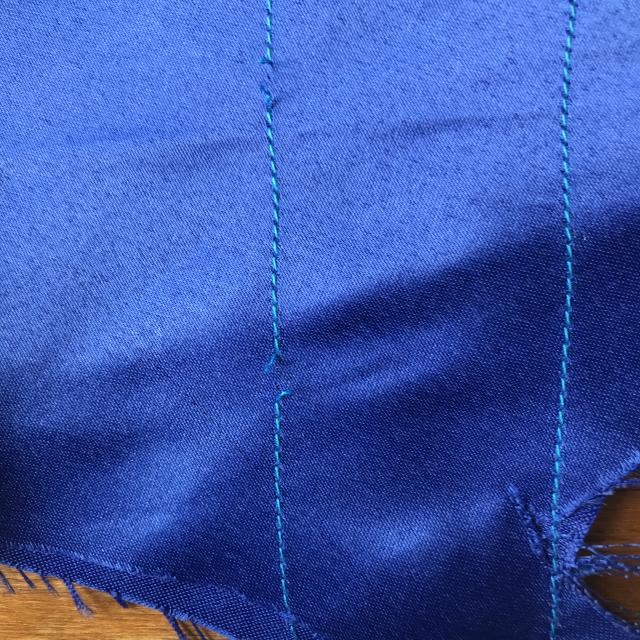broken: (239, 318, 318, 416)
good: (249, 157, 301, 283)
